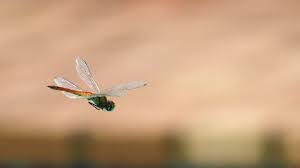insect: (41, 55, 148, 112)
